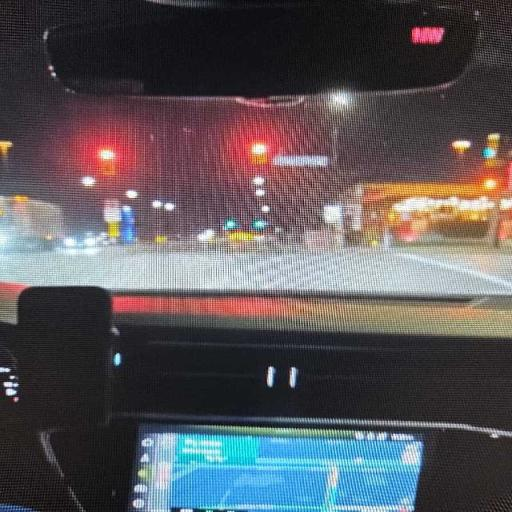car: (0, 0, 511, 511)
lane: (0, 248, 511, 295)
truck: (0, 196, 64, 251)
